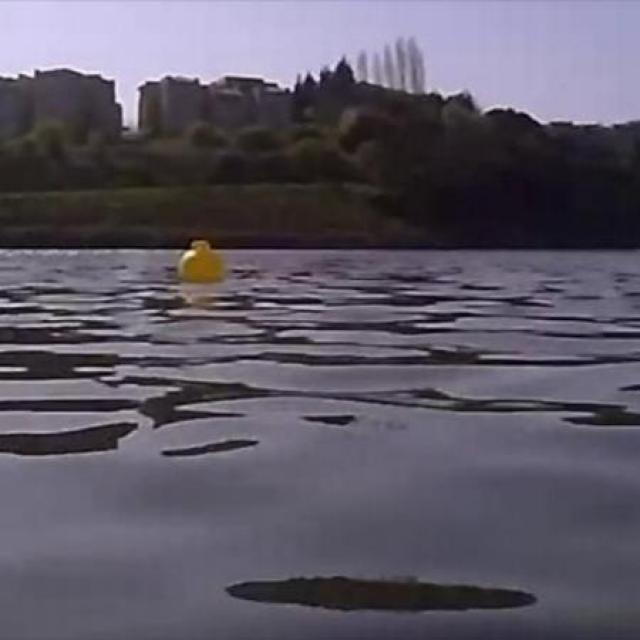buoy: (182, 236, 222, 276)
